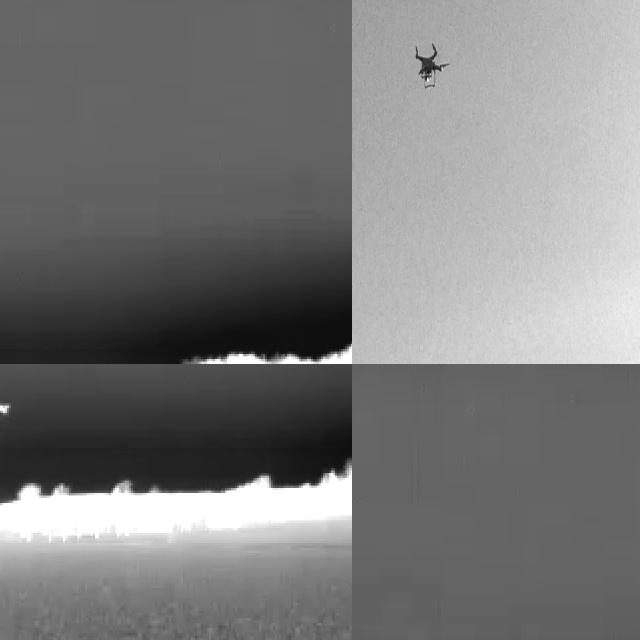1: (0, 396, 20, 429)
drone: (412, 38, 446, 90)
